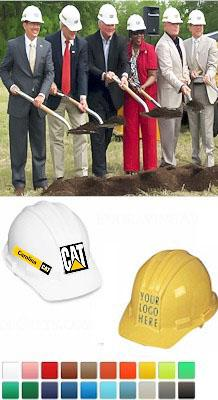helmet: (3, 201, 104, 302), (120, 252, 218, 353), (62, 7, 82, 34), (100, 6, 120, 26), (128, 13, 147, 34), (22, 7, 44, 24), (163, 8, 183, 24), (190, 10, 207, 26)
